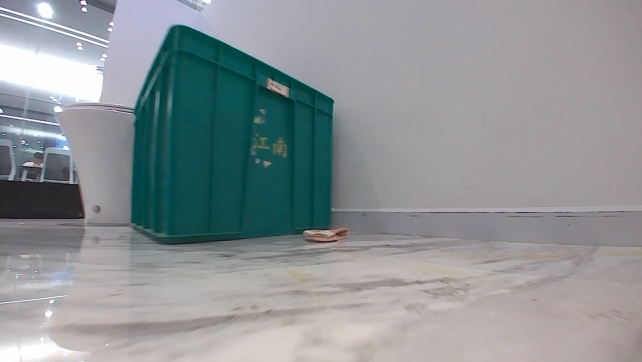socks: (297, 224, 351, 245)
toilet: (55, 95, 137, 227)
